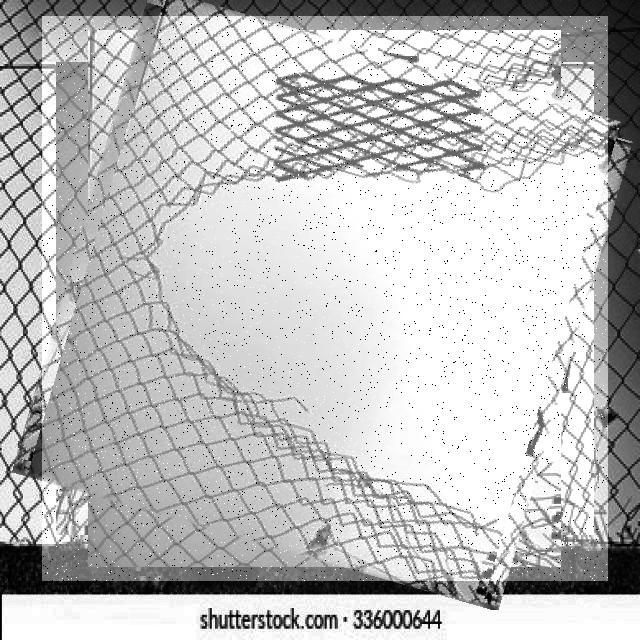anomaly-fence: (42, 16, 608, 581)
